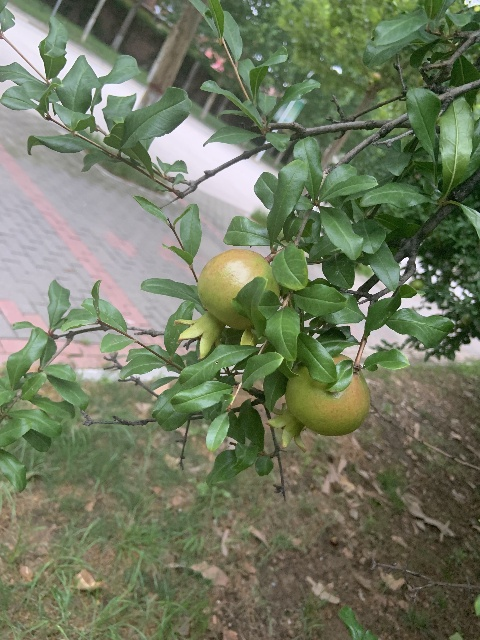mid-growth: (172, 248, 278, 360), (265, 353, 370, 453)
